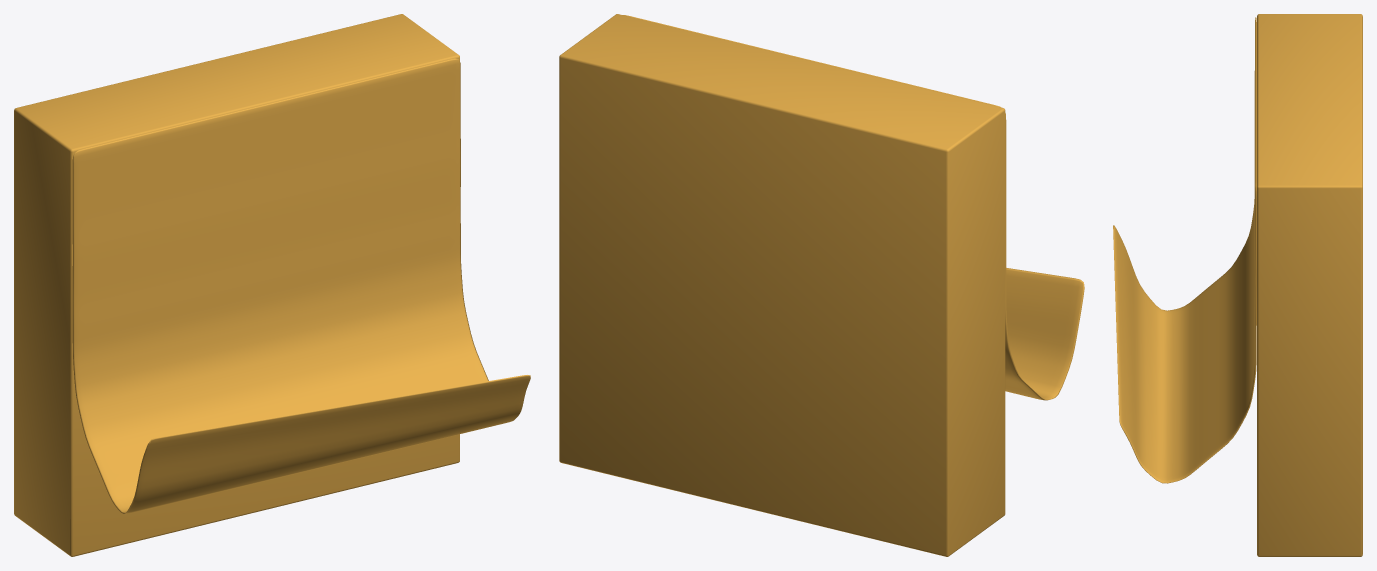
The model's file is label.glb.
3 views of the same model, side by side, from view 1: azimuth 30°, elevation 25°; view 2: azimuth 150°, elevation 25°; view 3: azimuth 270°, elevation 25° (orthographic). The views are drawn at different scales.
Parts seen in each view (by area): view 1: Plane.002_1, Cube.026_0; view 2: Cube.026_0, Plane.002_1; view 3: Cube.026_0, Plane.002_1.
Boxes of the visible parts, bbox=[...] form: Plane.002_1: bbox=[72, 58, 530, 514]; Cube.026_0: bbox=[14, 14, 459, 556]; Cube.026_0: bbox=[559, 14, 1005, 556]; Plane.002_1: bbox=[623, 15, 1084, 400]; Cube.026_0: bbox=[1257, 14, 1362, 556]; Plane.002_1: bbox=[1113, 17, 1256, 483].
Bounding box in the file's own units: 1.71 × 1.7 × 1.03.
